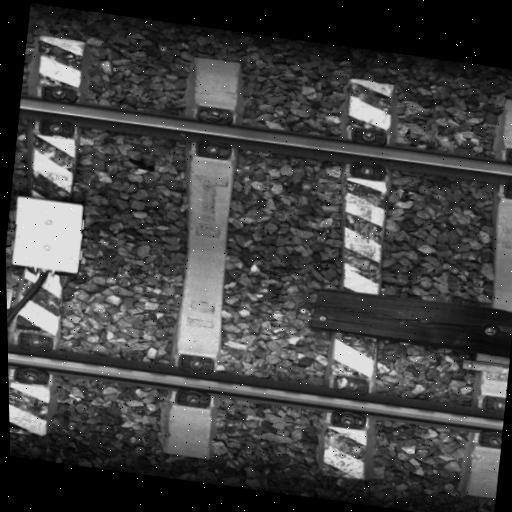sleeper: (148, 56, 255, 461), (300, 76, 405, 481), (1, 33, 97, 437), (452, 97, 512, 498)
